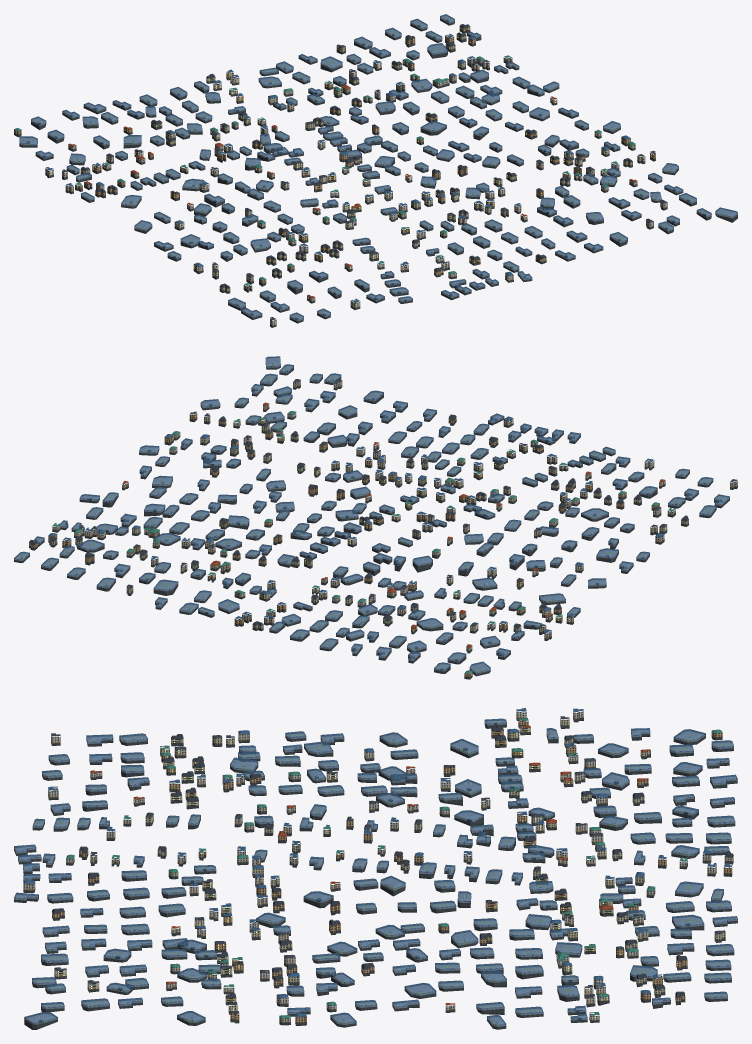
File: osm_buildings_T_E01_N02_Q3.glb
3 views of the same model, one above another, from view 1: azimuth 30°, elevation 25°; view 2: azimuth 150°, elevation 25°; view 3: azimuth 270°, elevation 25° (orthographic). The views are drawn at different scales.
Visible parts, largest first — view 1: OSM_T_E01_N02_Q3_greenhouse_blend, OSM_T_E01_N02_Q3_foundation, OSM_T_E01_N02_Q3_wall_cream_stucco, OSM_T_E01_N02_Q3_wall_french_ochre, OSM_T_E01_N02_Q3_window_emissive_warm, OSM_T_E01_N02_Q3_wall_warm_white, OSM_T_E01_N02_Q3_roof_mansard_slate, OSM_T_E01_N02_Q3_wall_pastel_sand, OSM_T_E01_N02_Q3_roof_mansard_deck, OSM_T_E01_N02_Q3_roof_alpine_blue, OSM_T_E01_N02_Q3_roof_mint_metal; view 2: OSM_T_E01_N02_Q3_greenhouse_blend, OSM_T_E01_N02_Q3_foundation, OSM_T_E01_N02_Q3_wall_cream_stucco, OSM_T_E01_N02_Q3_wall_french_ochre, OSM_T_E01_N02_Q3_roof_mansard_deck, OSM_T_E01_N02_Q3_window_emissive_warm, OSM_T_E01_N02_Q3_roof_mansard_slate, OSM_T_E01_N02_Q3_wall_warm_white, OSM_T_E01_N02_Q3_wall_pastel_sand, OSM_T_E01_N02_Q3_roof_alpine_blue, OSM_T_E01_N02_Q3_roof_mint_metal; view 3: OSM_T_E01_N02_Q3_greenhouse_blend, OSM_T_E01_N02_Q3_foundation, OSM_T_E01_N02_Q3_wall_cream_stucco, OSM_T_E01_N02_Q3_wall_french_ochre, OSM_T_E01_N02_Q3_roof_mansard_deck, OSM_T_E01_N02_Q3_window_emissive_warm, OSM_T_E01_N02_Q3_roof_mansard_slate, OSM_T_E01_N02_Q3_wall_warm_white, OSM_T_E01_N02_Q3_wall_pastel_sand, OSM_T_E01_N02_Q3_roof_alpine_blue, OSM_T_E01_N02_Q3_roof_mint_metal, OSM_T_E01_N02_Q3_trim_cornice (+1 smaller).
Boxes of the visible parts, box(x1,y1,x2,y2) form: OSM_T_E01_N02_Q3_greenhouse_blend: box(19, 14, 737, 321); OSM_T_E01_N02_Q3_foundation: box(14, 18, 737, 327); OSM_T_E01_N02_Q3_wall_cream_stucco: box(62, 34, 645, 291); OSM_T_E01_N02_Q3_wall_french_ochre: box(14, 26, 655, 283); OSM_T_E01_N02_Q3_window_emissive_warm: box(16, 17, 731, 317); OSM_T_E01_N02_Q3_wall_warm_white: box(45, 58, 653, 301); OSM_T_E01_N02_Q3_roof_mansard_slate: box(62, 25, 666, 320); OSM_T_E01_N02_Q3_wall_pastel_sand: box(65, 57, 667, 325); OSM_T_E01_N02_Q3_roof_mansard_deck: box(22, 21, 734, 320); OSM_T_E01_N02_Q3_roof_alpine_blue: box(46, 33, 630, 302); OSM_T_E01_N02_Q3_roof_mint_metal: box(14, 55, 635, 286); OSM_T_E01_N02_Q3_greenhouse_blend: box(14, 356, 729, 673); OSM_T_E01_N02_Q3_foundation: box(14, 361, 737, 679); OSM_T_E01_N02_Q3_wall_cream_stucco: box(49, 415, 688, 651); OSM_T_E01_N02_Q3_wall_french_ochre: box(29, 413, 659, 677); OSM_T_E01_N02_Q3_roof_mansard_deck: box(15, 366, 727, 673); OSM_T_E01_N02_Q3_window_emissive_warm: box(19, 363, 723, 673); OSM_T_E01_N02_Q3_roof_mansard_slate: box(29, 379, 737, 628); OSM_T_E01_N02_Q3_wall_warm_white: box(74, 380, 665, 638); OSM_T_E01_N02_Q3_wall_pastel_sand: box(52, 380, 737, 623); OSM_T_E01_N02_Q3_roof_alpine_blue: box(48, 416, 664, 632); OSM_T_E01_N02_Q3_roof_mint_metal: box(52, 410, 675, 673); OSM_T_E01_N02_Q3_greenhouse_blend: box(14, 718, 737, 1026); OSM_T_E01_N02_Q3_foundation: box(14, 717, 737, 1029); OSM_T_E01_N02_Q3_wall_cream_stucco: box(90, 718, 733, 1022); OSM_T_E01_N02_Q3_wall_french_ochre: box(52, 720, 732, 1023); OSM_T_E01_N02_Q3_roof_mansard_deck: box(15, 722, 736, 1025); OSM_T_E01_N02_Q3_window_emissive_warm: box(19, 721, 729, 1026); OSM_T_E01_N02_Q3_roof_mansard_slate: box(51, 716, 733, 1013); OSM_T_E01_N02_Q3_wall_warm_white: box(54, 710, 716, 1010); OSM_T_E01_N02_Q3_wall_pastel_sand: box(23, 711, 711, 1020); OSM_T_E01_N02_Q3_roof_alpine_blue: box(23, 708, 732, 1017); OSM_T_E01_N02_Q3_roof_mint_metal: box(66, 717, 722, 1018); OSM_T_E01_N02_Q3_trim_cornice: box(28, 711, 729, 1018).
Bounding box in the file's own units: 1006 × 49.57 × 1001.
Materials: 16 (16 with a texture image).
